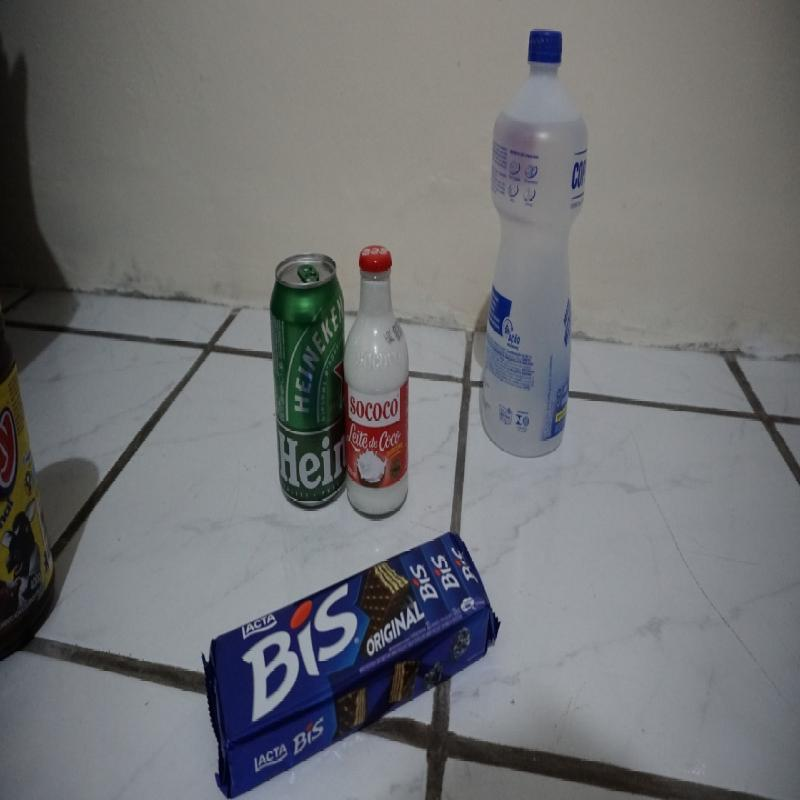Alcohol Bottle: (480, 30, 591, 458)
Beer can: (268, 252, 352, 510)
Chocolate Powder: (1, 306, 60, 664)
Coconut Milk: (344, 242, 412, 520)
